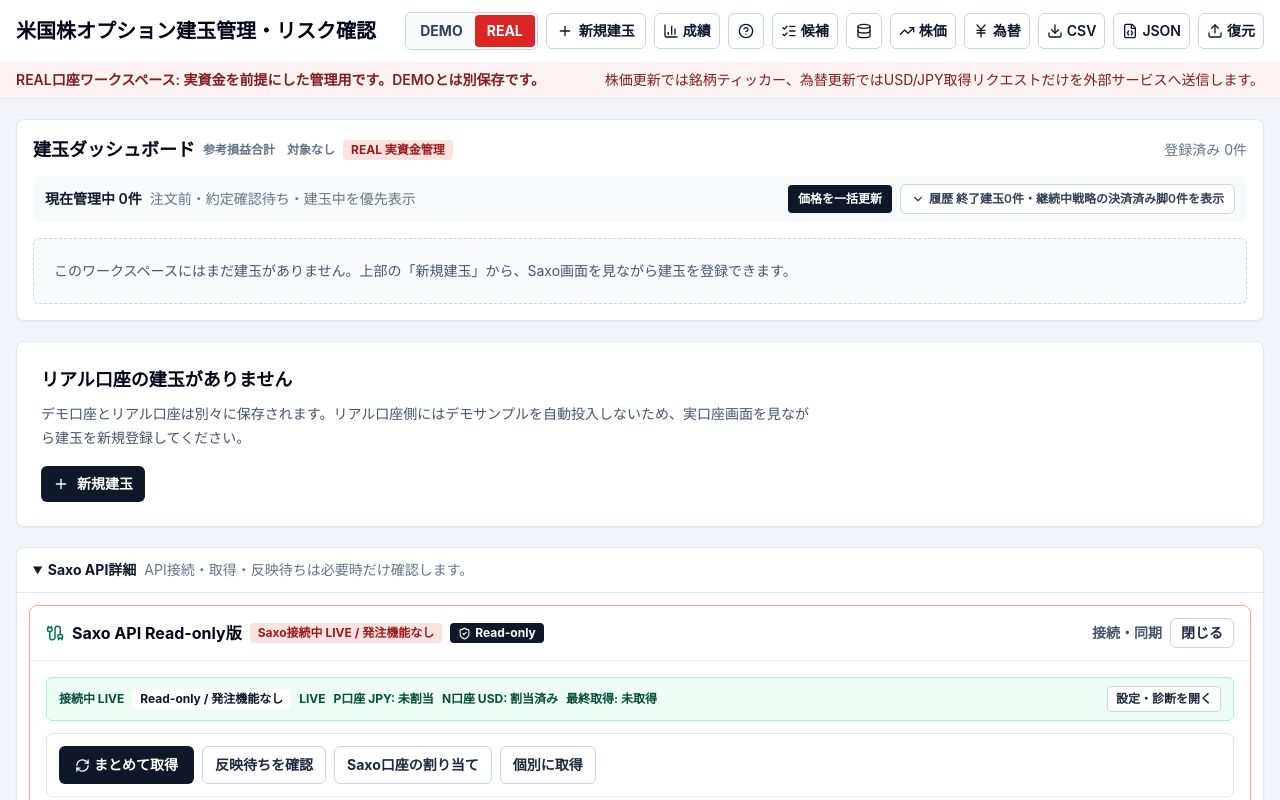
Test: SPREAD-REPAIR-20260912-R2 RED_BASELINE production import › does not revive closed lots and explains why grouping was withheld in the real Panel
This screenshot has width=1280, height=800.
Click the button "まとめて取得" at (126, 765), box [59, 746, 194, 784]
(page scrolled)
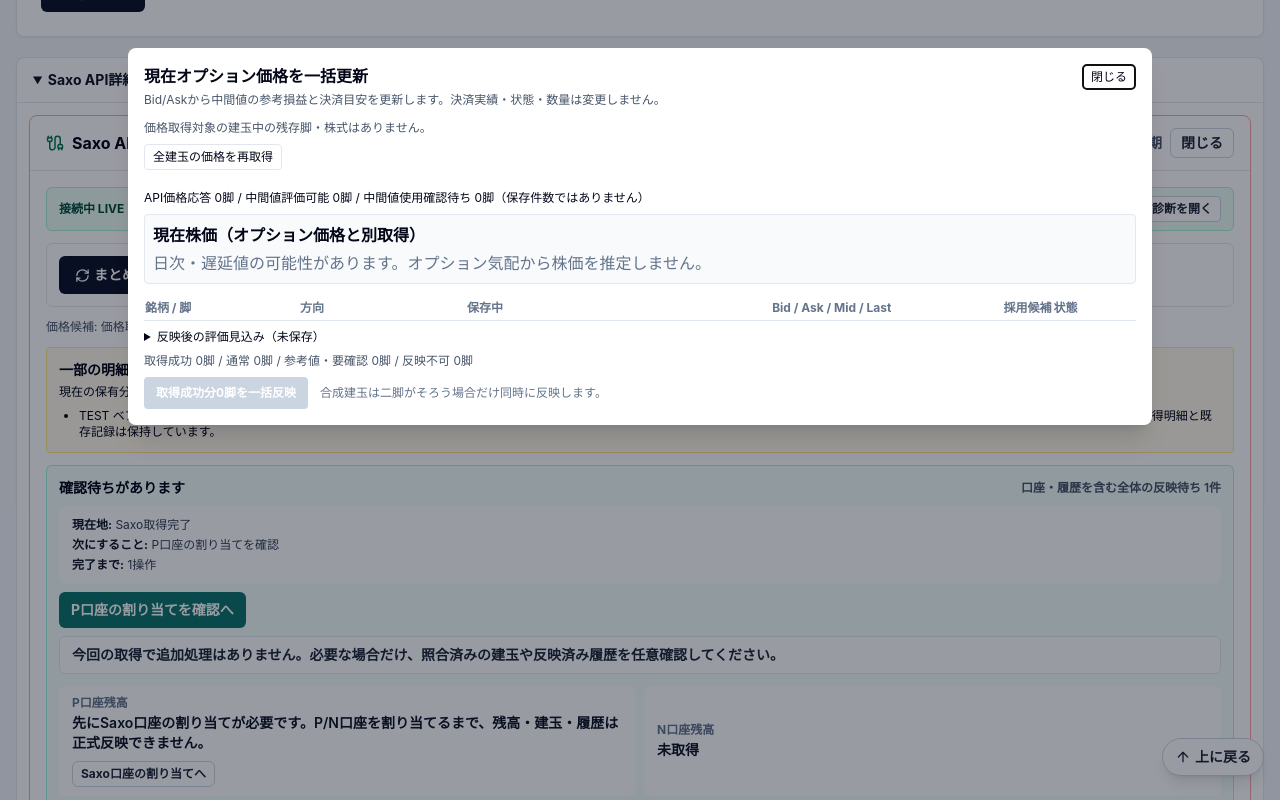
Result: the element named "スプレッドにまとめなかった明細" shows "元の明細は残しています" at [59, 384, 763, 399]
Result: the element named "スプレッドにまとめなかった明細" shows "現在保有する購入分を確定できません" at [79, 408, 1212, 439]
